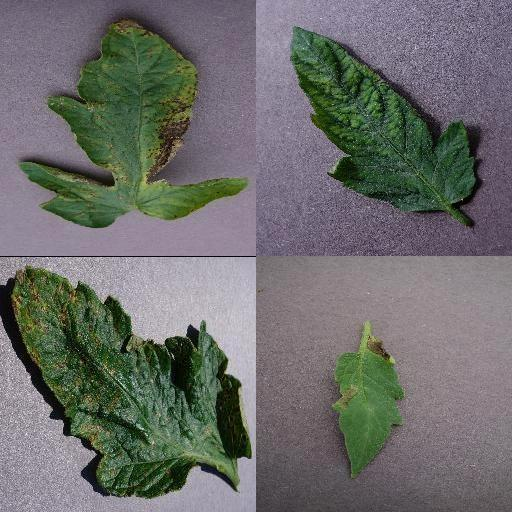Late Blight: (329, 335, 407, 479)
Mosaic Virus: (289, 25, 481, 213)
Septoria: (13, 266, 253, 497), (19, 19, 247, 229)
